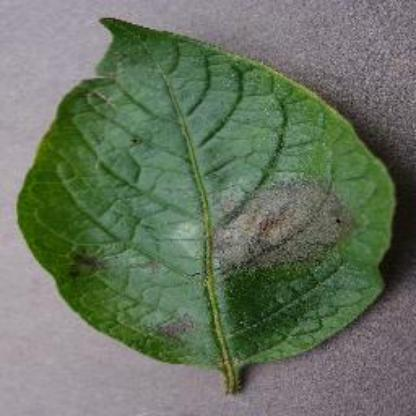Late-Blight: (16, 8, 404, 378)
